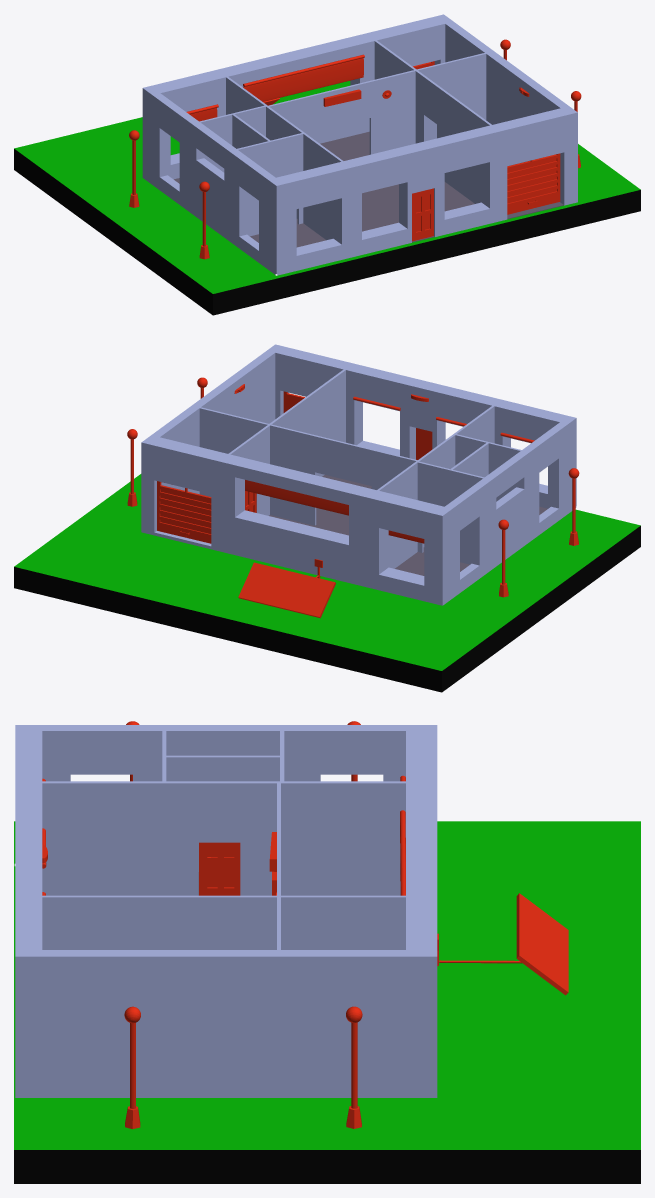
3 renders of one model, top to bottom at view 1: azimuth 30°, elevation 25°; view 2: azimuth 150°, elevation 25°; view 3: azimuth 270°, elevation 25°, orthographic. The views are drawn at different scales.
Parts seen in each view (by area): view 1: maquetaSTL, Cube.001, Cubo, porton, Cilindro.014, puerta, Cilindro.005, Esfera, Esfera.001; view 2: maquetaSTL, Cube.001, Cubo.004, porton.001, Cubo, Cilindro.014; view 3: maquetaSTL, Cube.001, Cubo.004, puerta.005, Esfera.003, Esfera.002.
Part boxes in pixels (left/top/right/bottom): maquetaSTL: left=142, top=14, right=577, bottom=275; Cube.001: left=14, top=81, right=640, bottom=315; Cubo: left=174, top=131, right=563, bottom=247; porton: left=507, top=153, right=560, bottom=214; Cilindro.014: left=243, top=58, right=363, bottom=101; puerta: left=412, top=188, right=433, bottom=241; Cilindro.005: left=243, top=54, right=364, bottom=86; Esfera: left=199, top=181, right=209, bottom=259; Esfera.001: left=129, top=130, right=139, bottom=207; maquetaSTL: left=141, top=344, right=576, bottom=605; Cube.001: left=14, top=474, right=640, bottom=692; Cubo.004: left=238, top=562, right=335, bottom=618; porton.001: left=157, top=481, right=211, bottom=543; Cubo: left=269, top=475, right=547, bottom=575; Cilindro.014: left=245, top=480, right=348, bottom=515; maquetaSTL: left=15, top=725, right=437, bottom=1097; Cube.001: left=14, top=821, right=640, bottom=1183; Cubo.004: left=516, top=893, right=568, bottom=995; puerta.005: left=199, top=842, right=240, bottom=895; Esfera.003: left=346, top=1006, right=362, bottom=1128; Esfera.002: left=124, top=1006, right=140, bottom=1129.
Bounding box in the file's own units: 2.08 × 0.5288 × 1.68.
